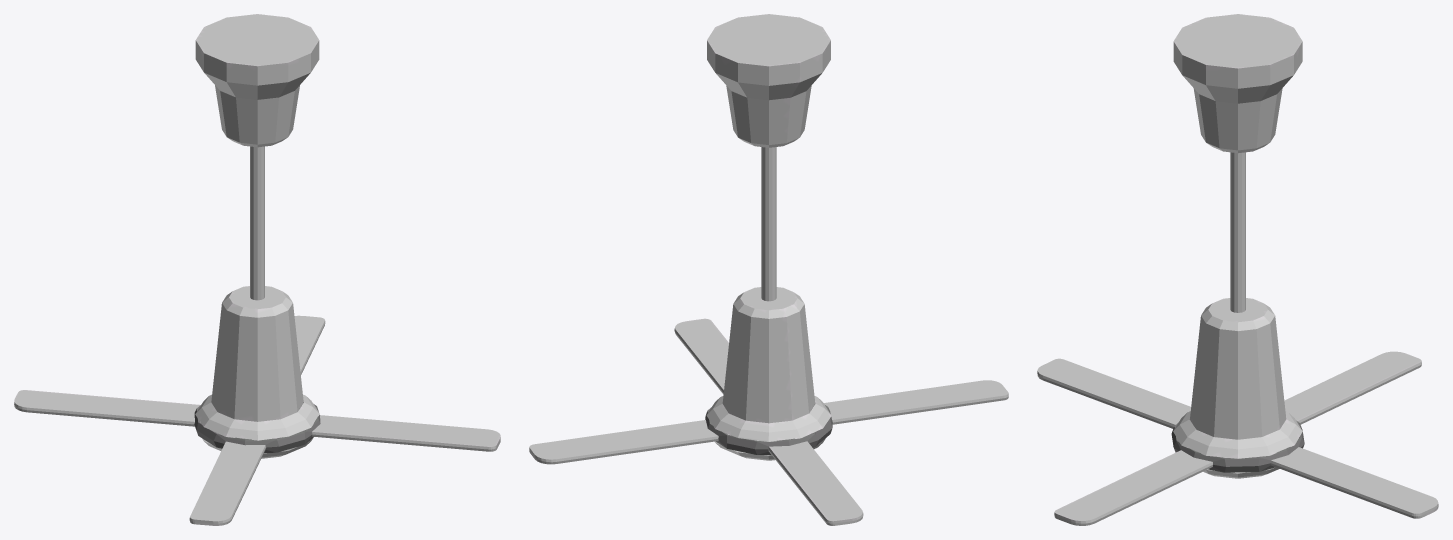
Rendered from CeilingFan.fbx.
3 renders of one model, left to right at view 1: azimuth 30°, elevation 25°; view 2: azimuth 150°, elevation 25°; view 3: azimuth 270°, elevation 25°, orthographic. The views are drawn at different scales.
Parts seen in each view (by area): view 1: FanBase, FanBlades, FanBladesBase; view 2: FanBase, FanBlades, FanBladesBase; view 3: FanBase, FanBlades, FanBladesBase.
Boxes of the visible parts, x1,y1,x2,y2 form: FanBase: (195,14,319,421); FanBlades: (14,315,500,525); FanBladesBase: (195,394,319,458); FanBase: (707,14,830,423); FanBlades: (529,318,1008,525); FanBladesBase: (706,396,831,460); FanBase: (1173,14,1302,439); FanBlades: (1037,351,1438,525); FanBladesBase: (1173,411,1302,478).
Bounding box in the file's own units: 311 × 364 × 311.
